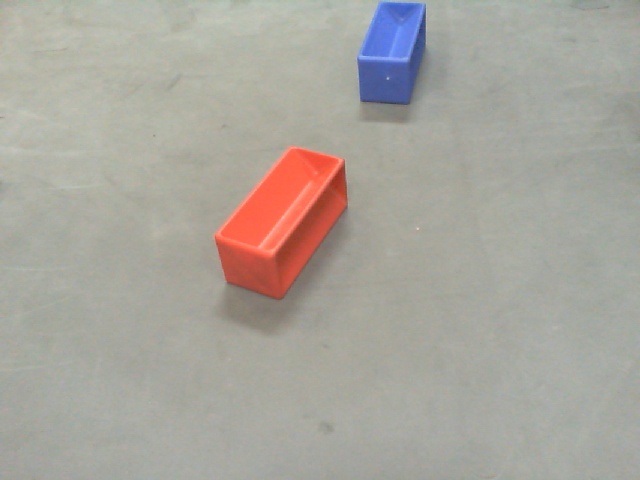BlueSample: (359, 2, 427, 107)
RedSample: (212, 144, 349, 303)
